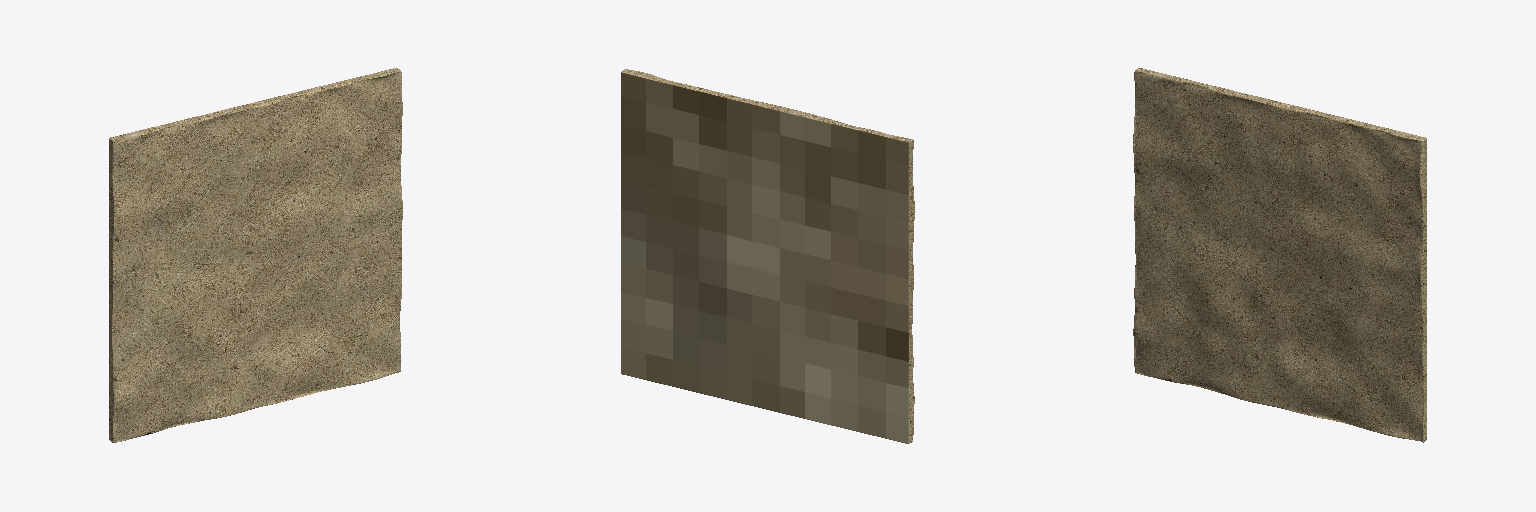
The picture shows the model from 3 angles: view 1: azimuth 30°, elevation 25°; view 2: azimuth 150°, elevation 25°; view 3: azimuth 330°, elevation 25°; orthographic projection.
Visible parts, largest first — view 1: sand; view 2: sand; view 3: sand.
Part boxes in pixels (x1,y1,x2,y2): sand: (109,68,402,442); sand: (621,69,914,443); sand: (1133,68,1426,442).
Bounding box in the file's own units: 300 × 300 × 11.78.
Materials: 1 (1 with a texture image).